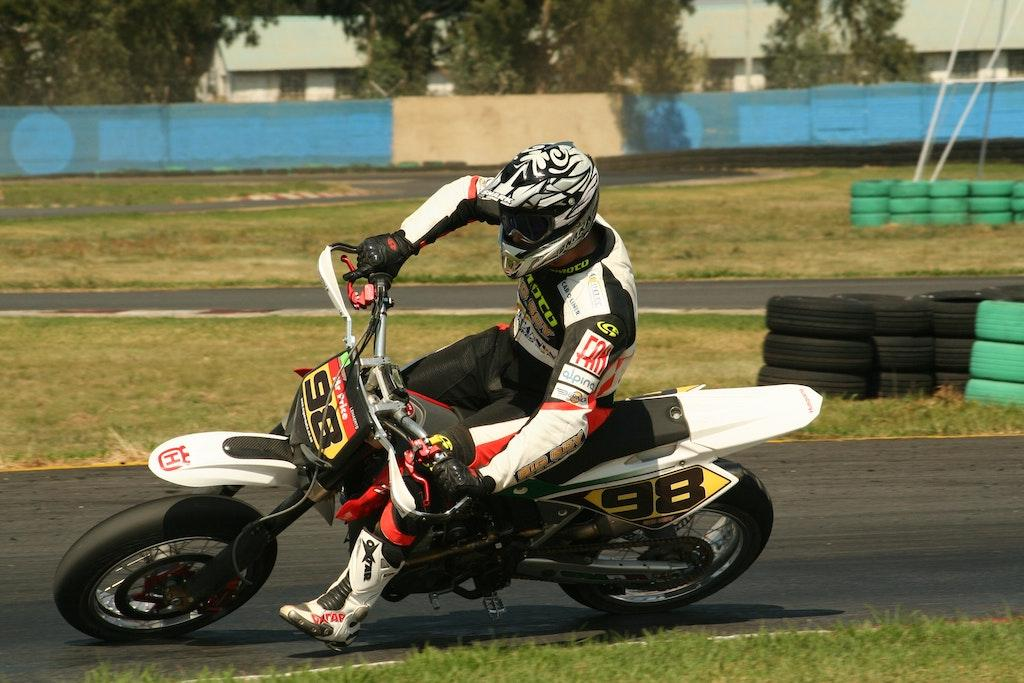helmet: (477, 140, 601, 281)
